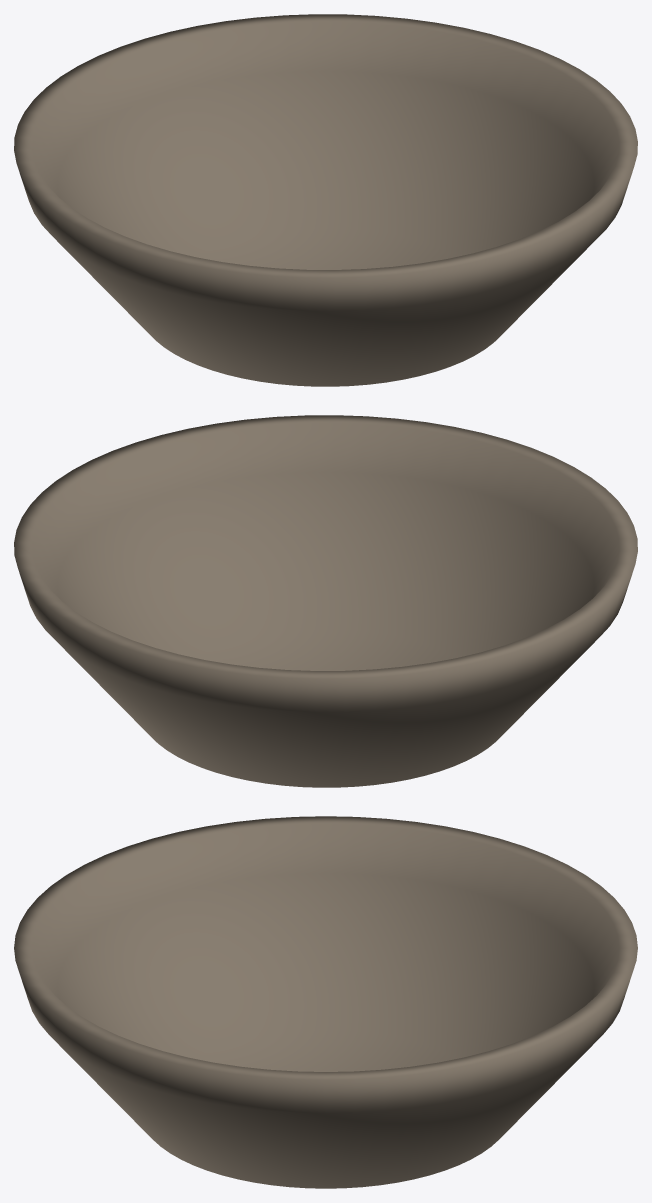
File: contemporary.bowl.gltf
3 renders of one model, top to bottom at view 1: azimuth 30°, elevation 25°; view 2: azimuth 150°, elevation 25°; view 3: azimuth 270°, elevation 25°, orthographic.
Parts seen in each view (by area): view 1: contemporary.bowl.stoneware; view 2: contemporary.bowl.stoneware; view 3: contemporary.bowl.stoneware.
Part boxes in pixels (x1=…): contemporary.bowl.stoneware: x1=14, y1=14, x2=637, y2=386; contemporary.bowl.stoneware: x1=14, y1=415, x2=637, y2=787; contemporary.bowl.stoneware: x1=14, y1=816, x2=637, y2=1188.
Size of the model in its own units: 0.29 by 0.09 by 0.29.
